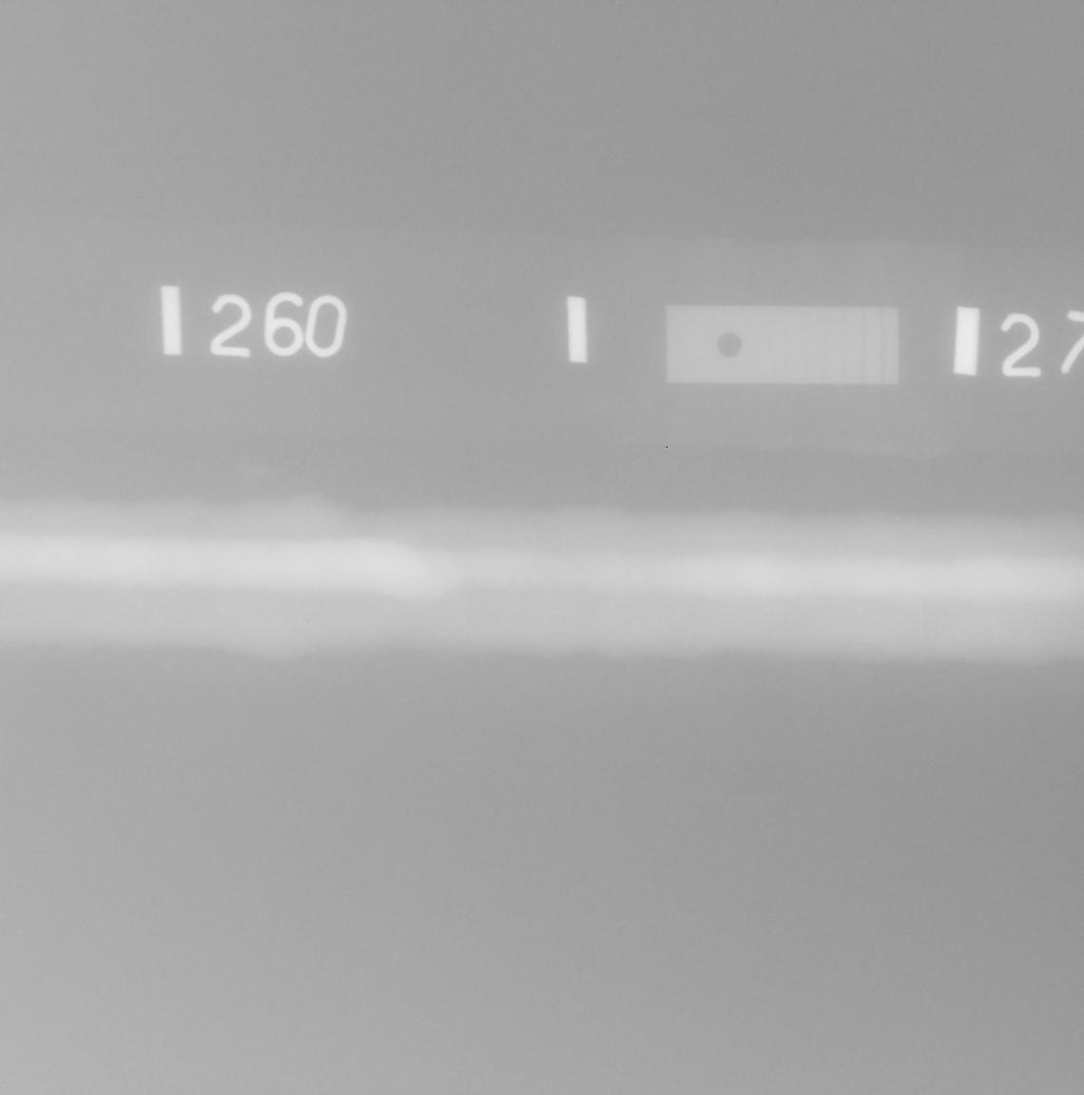Reference Standard 1: (666, 306, 899, 384)
